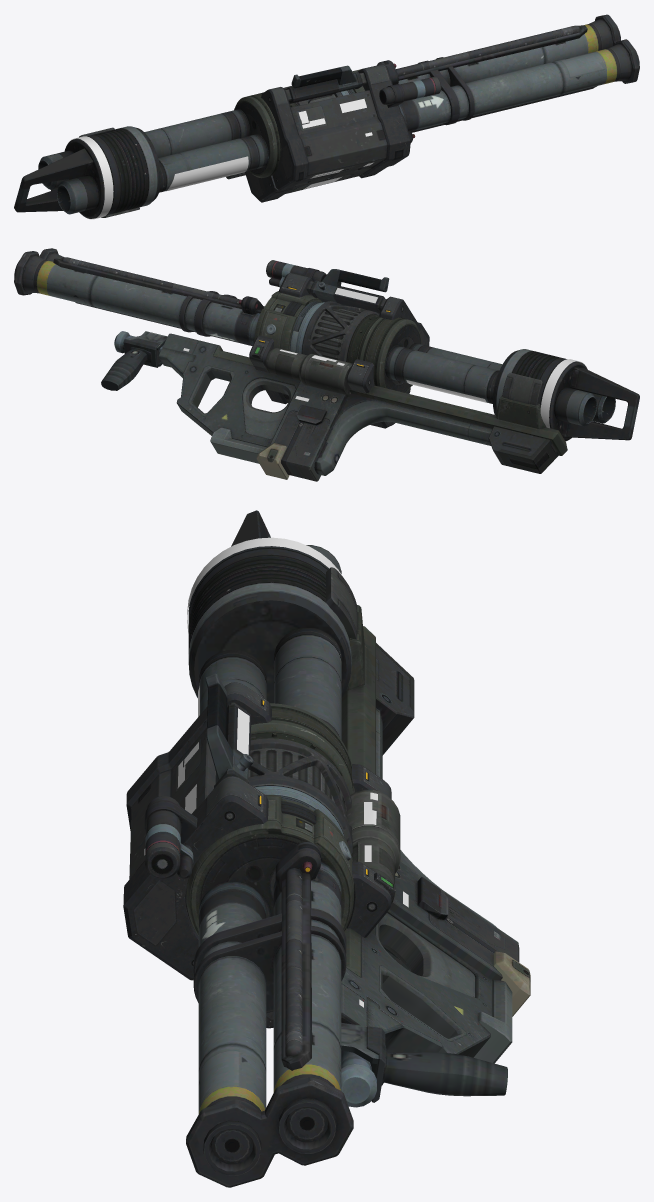
Rendered from M41_Static_Mesh.fbx.
3 views of the same model, one above another, from view 1: azimuth 30°, elevation 25°; view 2: azimuth 150°, elevation 25°; view 3: azimuth 270°, elevation 25° (orthographic). The views are drawn at different scales.
Parts seen in each view (by area): view 1: Launcher Tubes; view 2: Launcher Tubes; view 3: Launcher Tubes.
Part boxes in pixels (bbox=[...]): Launcher Tubes: bbox=[14, 14, 639, 219]; Launcher Tubes: bbox=[14, 248, 639, 481]; Launcher Tubes: bbox=[123, 510, 530, 1187].
Size of the model in its own units: 112 by 28.22 by 32.7.
Materials: 3 (1 with a texture image).
